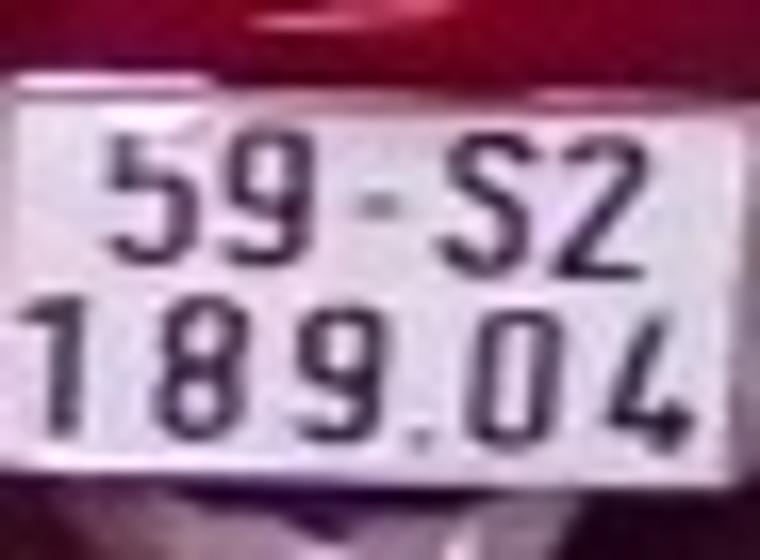-: (351, 185, 408, 216)
.: (406, 421, 437, 455)
0: (468, 301, 566, 451)
1: (18, 296, 91, 436)
2: (552, 127, 653, 285)
4: (604, 314, 710, 462)
5: (107, 118, 206, 271)
8: (153, 289, 256, 439)
9: (223, 122, 321, 273), (289, 307, 390, 445)
S: (428, 127, 542, 292)
